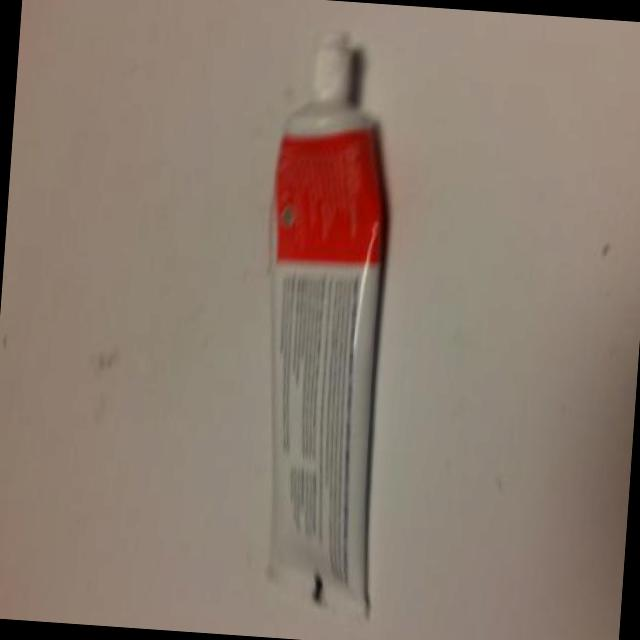hop_nhua: (267, 26, 390, 623)
